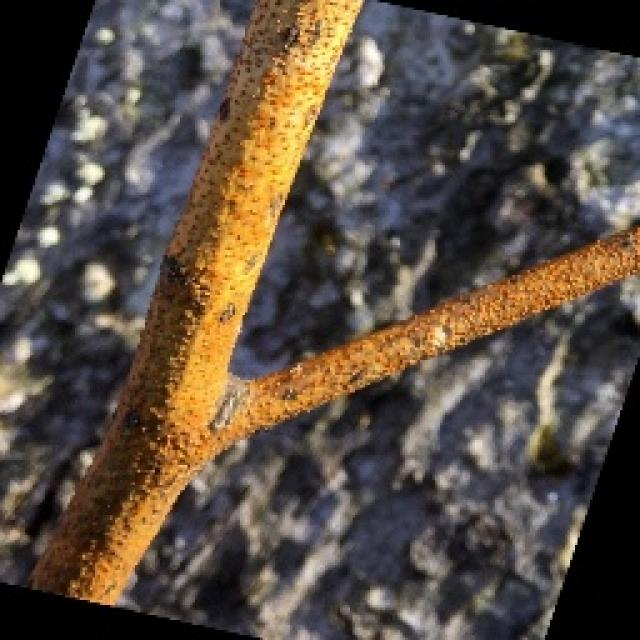Golden_canker: (18, 13, 640, 640)
